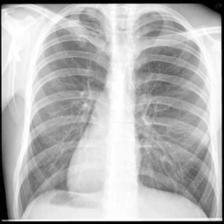tuberculosis: (12, 4, 220, 218)
